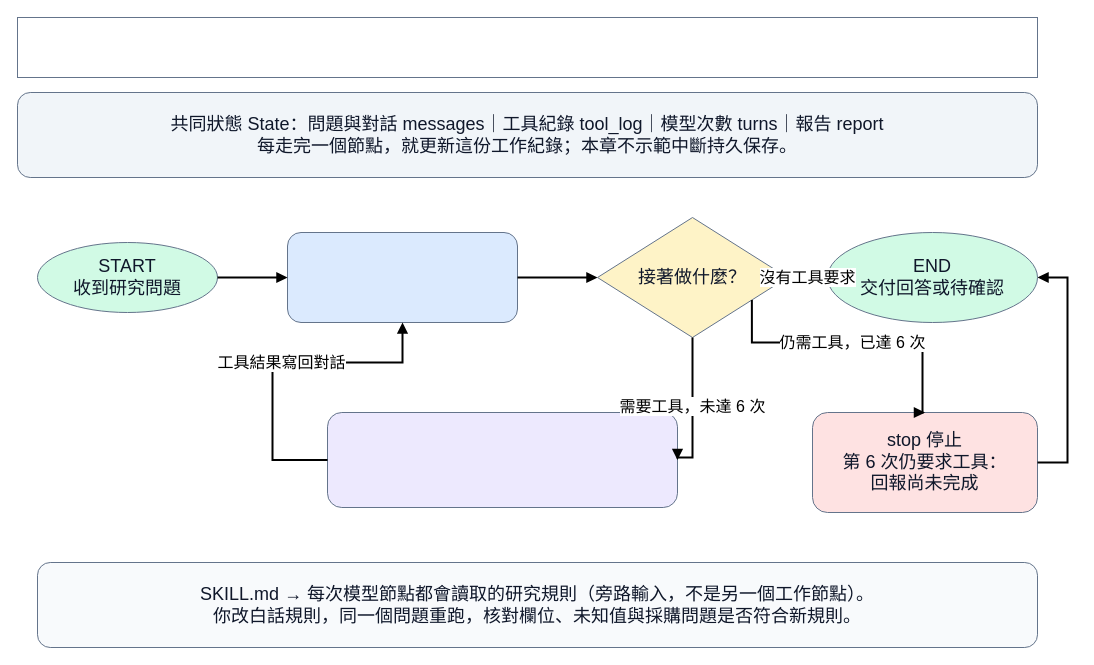
Some shapes in this 1094 by 665 pixel diagram are drawn without their labels. Each missing label, with the centre of its shape:
"model 模型 讀問題、證據與規則" goes at (402,277).
"tools 工具 查詢教材 JSON，傳回產品資料" goes at (502,460).
"加入 Skill：流程相同，研究方法可以重複使用" goes at (527,47).
